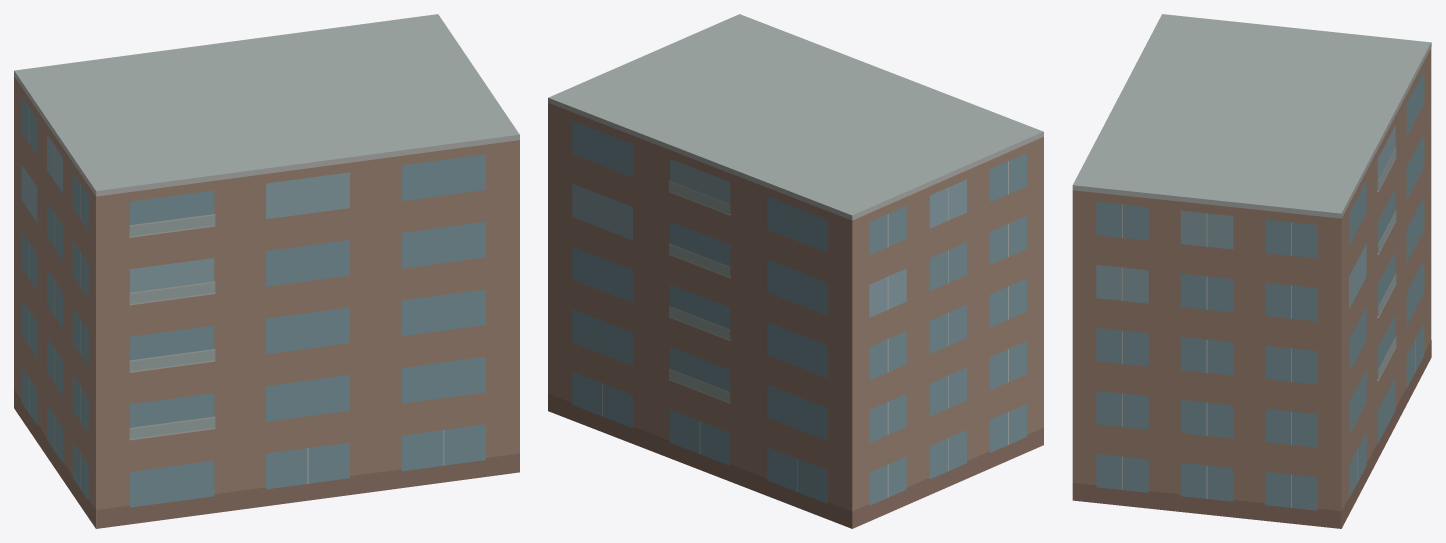
The model's file is survey-upis-33040261.glb.
3 renders of one model, left to right at view 1: azimuth 30°, elevation 25°; view 2: azimuth 150°, elevation 25°; view 3: azimuth 270°, elevation 25°, orthographic. The views are drawn at different scales.
Parts seen in each view (by area): view 1: survey-upis-33040261.tmp; view 2: survey-upis-33040261.tmp; view 3: survey-upis-33040261.tmp.
Boxes of the visible parts, x1=… form: survey-upis-33040261.tmp: x1=14, y1=14, x2=519, y2=528; survey-upis-33040261.tmp: x1=548, y1=14, x2=1043, y2=528; survey-upis-33040261.tmp: x1=1072, y1=14, x2=1431, y2=528.
Bounding box in the file's own units: 20.72 × 15.25 × 15.74.
